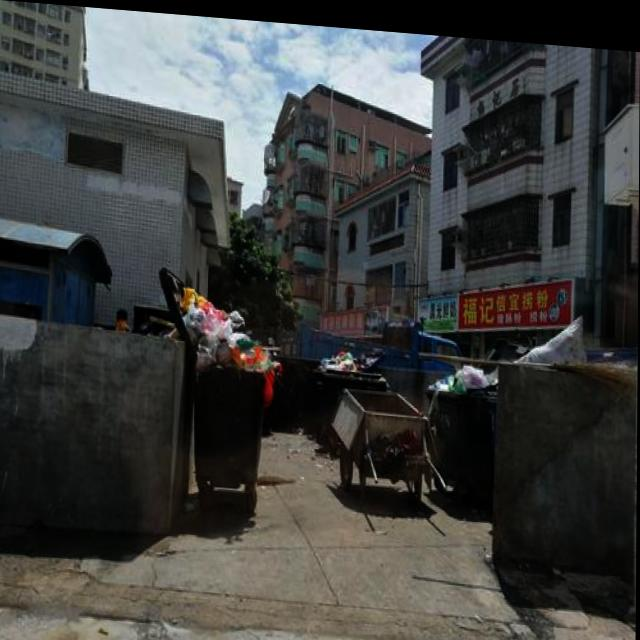overflow: (178, 283, 280, 486), (424, 353, 494, 488)
